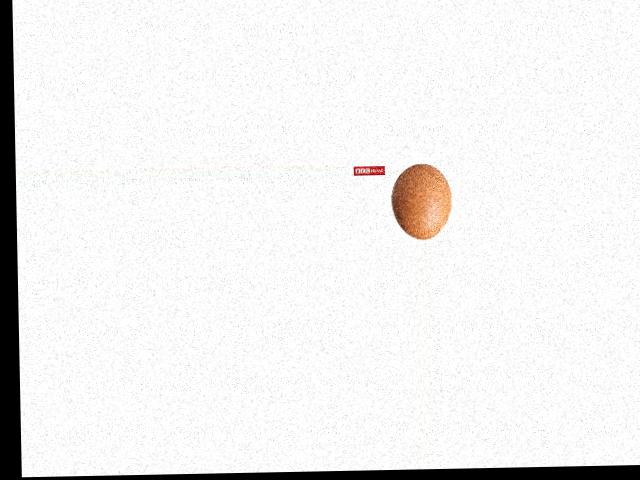egg: (391, 163, 452, 239)
